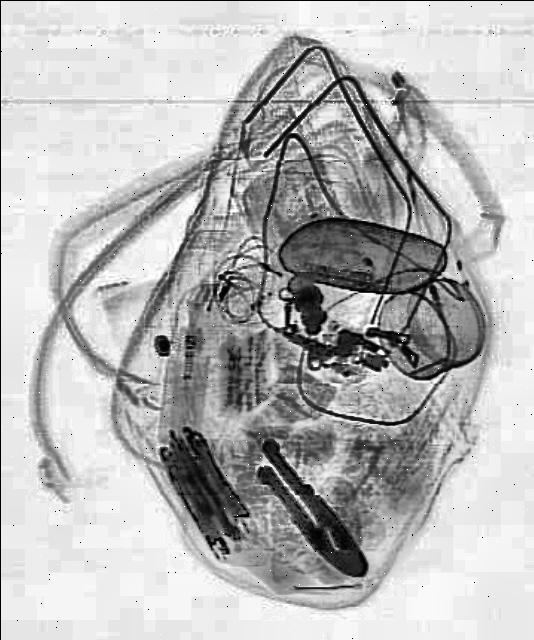Pliers: (241, 430, 374, 588)
